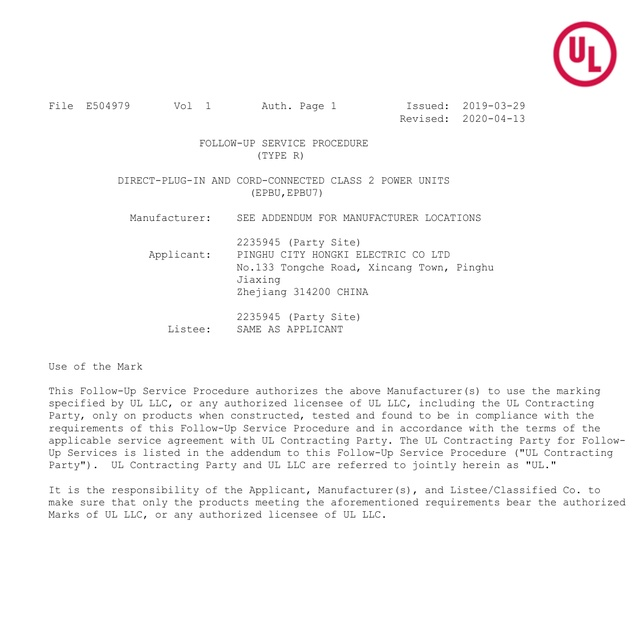ul: (553, 19, 618, 87)
